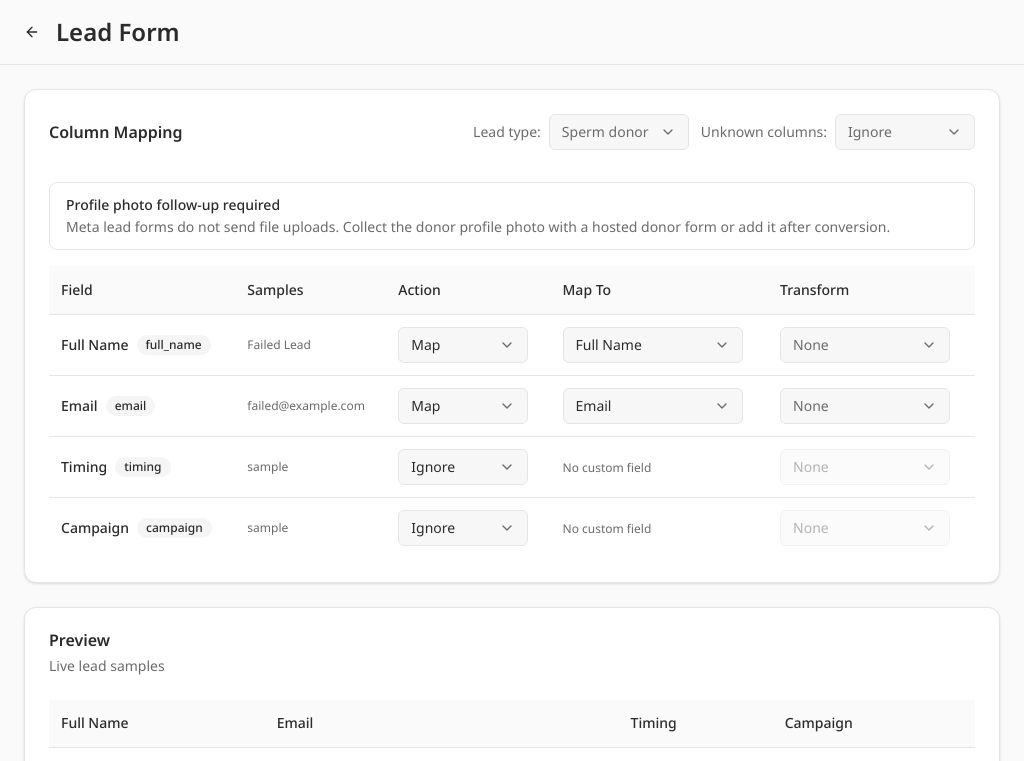
Test: MetaFormMappingPage › hides metadata choices for a stored donor form
This screenshot has width=1024, height=761.
Expected: the dropdown named "action for campaign" shows "Ignore", [398, 510, 528, 546]
Press the mouse on the dropdown named "unknown columns behavior" at coordinates (905, 132), box [835, 114, 975, 150]
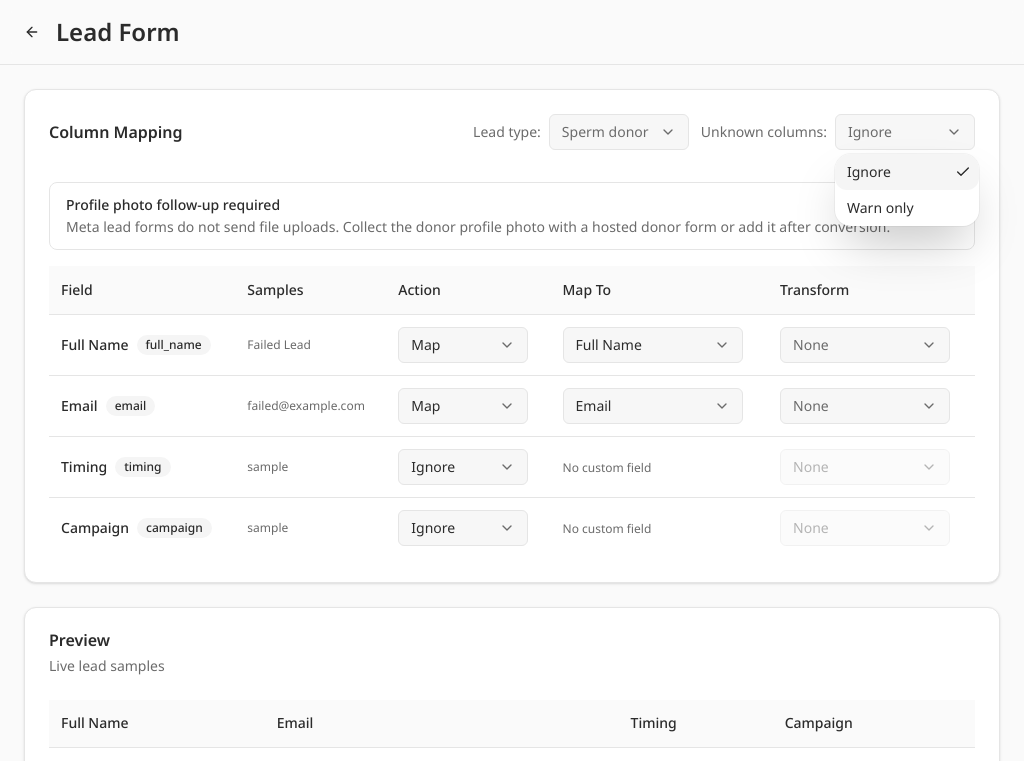
Expected: the option "Warn only" is shown, [847, 198, 914, 217]
